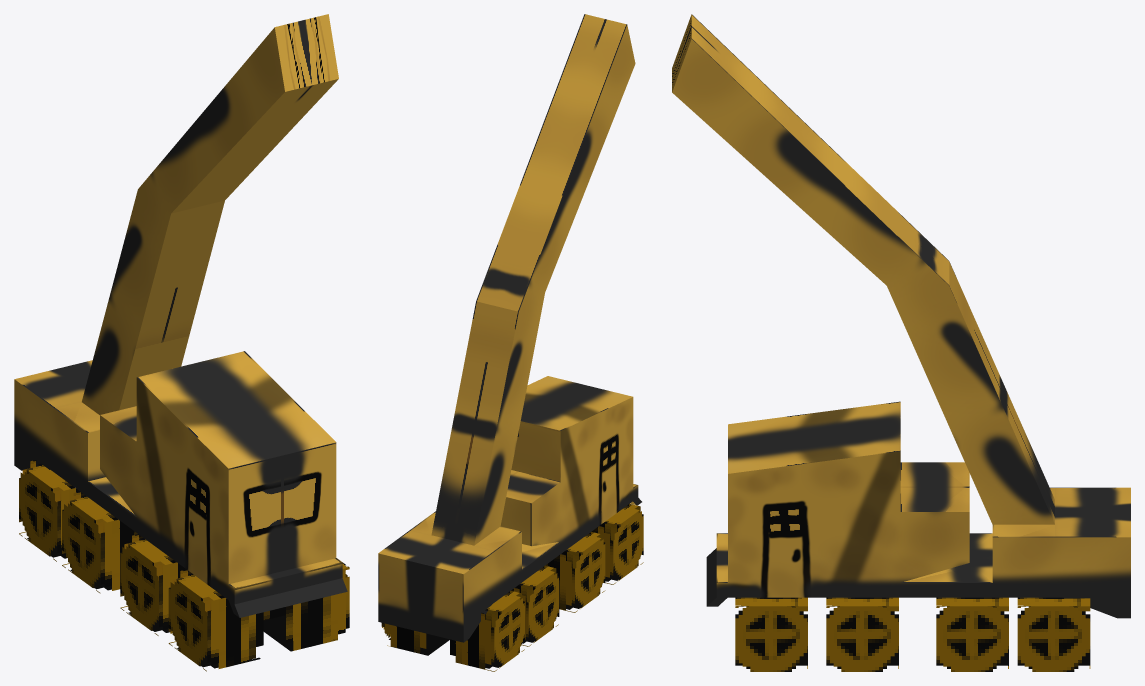
The model's file is crane.fbx.
3 views of the same model, side by side, from view 1: azimuth 30°, elevation 25°; view 2: azimuth 150°, elevation 25°; view 3: azimuth 270°, elevation 25° (orthographic). The views are drawn at different scales.
Visible parts, largest first — view 1: Cube, Wheel1, Wheel1.002, Wheel1.001, Wheel1.003; view 2: Cube, Wheel1.003, Wheel1.001, Wheel1, Wheel1.002; view 3: Cube, Wheel1.003, Wheel1, Wheel1.001, Wheel1.002.
Part boxes in pixels (x1,y1,x2,y2): Cube: (14, 14, 347, 617); Wheel1: (168, 558, 349, 671); Wheel1.002: (62, 491, 137, 593); Wheel1.001: (120, 534, 186, 635); Wheel1.003: (19, 460, 79, 561); Cube: (378, 14, 641, 642); Wheel1.003: (381, 591, 524, 671); Wheel1.001: (545, 532, 605, 612); Wheel1: (591, 503, 643, 584); Wheel1.002: (511, 565, 559, 646); Cube: (672, 14, 1130, 618); Wheel1.003: (1017, 597, 1090, 671); Wheel1: (735, 597, 807, 671); Wheel1.001: (826, 597, 898, 671); Wheel1.002: (936, 597, 1008, 671).
Size of the model in its own units: 966 by 325 by 1424.
5 materials, 5 textured.
